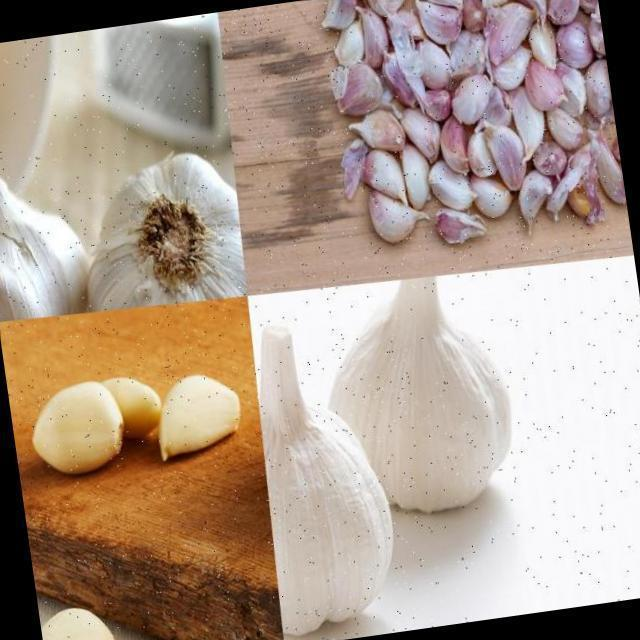garlic: (313, 0, 630, 266), (304, 264, 532, 532), (240, 304, 419, 640), (60, 132, 252, 318), (0, 147, 105, 324), (18, 362, 169, 482), (150, 367, 252, 467), (37, 594, 127, 640)
